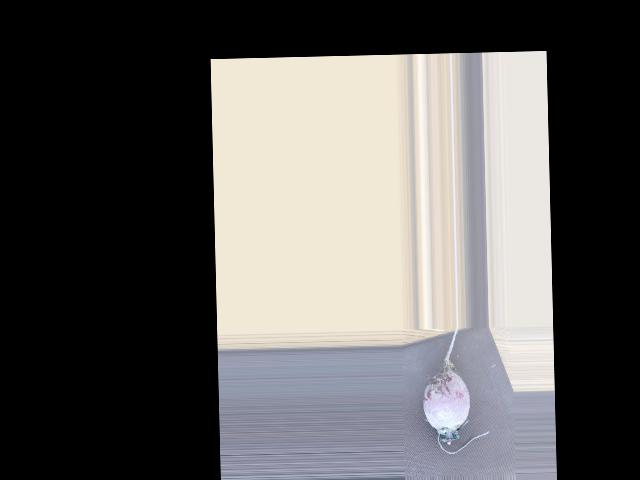beet: (420, 326, 489, 454)
